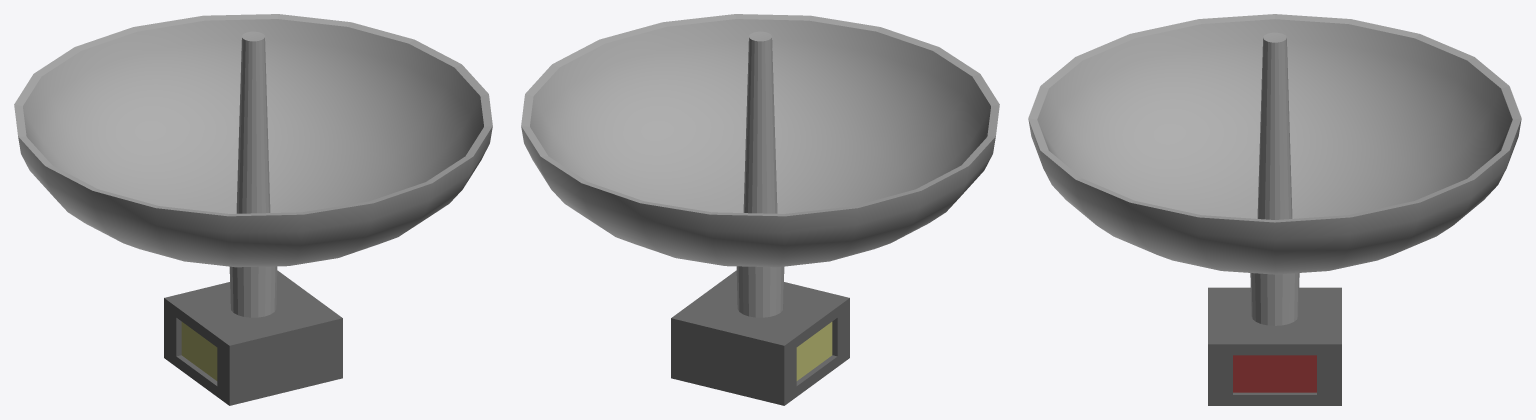
The model's file is Broadcast Dish.fbx.
The picture shows the model from 3 angles, left to right: view 1: azimuth 30°, elevation 25°; view 2: azimuth 150°, elevation 25°; view 3: azimuth 270°, elevation 25°; orthographic projection. The views are drawn at different scales.
Parts seen in each view (by area): view 1: pSphere1, pCube1; view 2: pSphere1, pCube1; view 3: pSphere1, pCube1.
Part boxes in pixels (<box>): pSphere1: <box>14,14,492,317</box>; pCube1: <box>164,270,342,405</box>; pSphere1: <box>521,14,999,317</box>; pCube1: <box>671,270,849,405</box>; pSphere1: <box>1028,14,1521,325</box>; pCube1: <box>1208,287,1341,405</box>.
Size of the model in its own units: 2.19 by 1.67 by 2.19.
